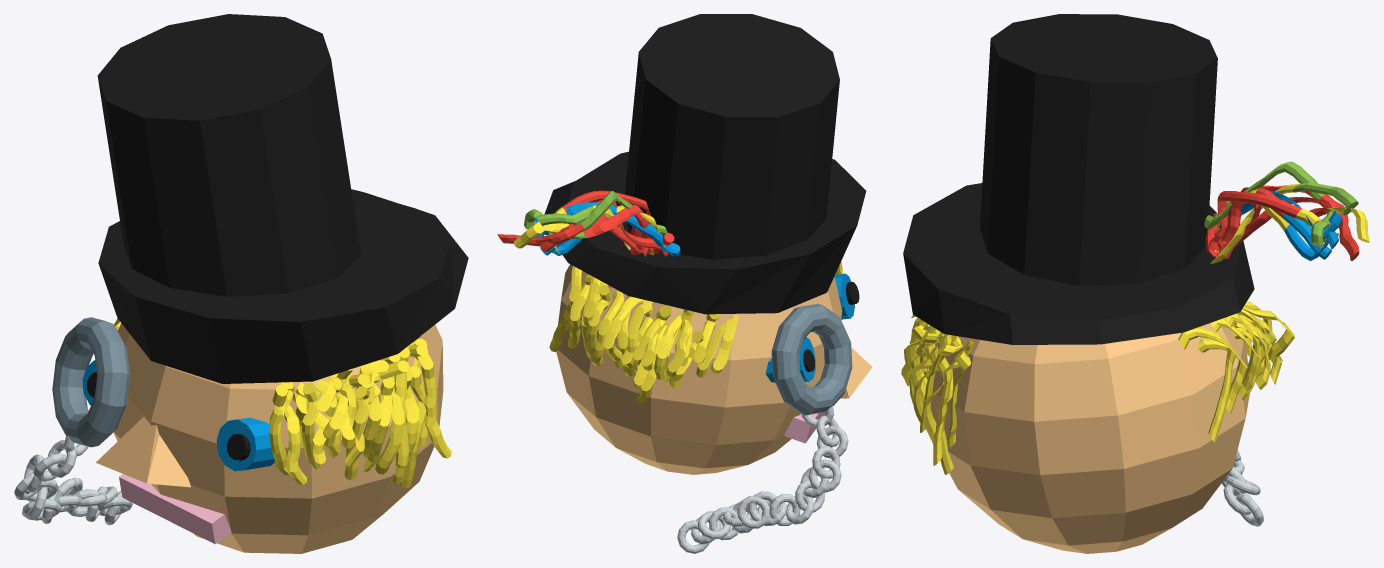
3 renders of one model, left to right at view 1: azimuth 30°, elevation 25°; view 2: azimuth 150°, elevation 25°; view 3: azimuth 270°, elevation 25°, orthographic. The views are drawn at different scales.
Parts seen in each view (by area): view 1: mesh_1056671256, mesh_1759973680, mesh_1674295897, mesh_729470194, group_1195844278, mesh_1835662427, mesh_1868574435, group_8469853, group_1767632515, group_857570327, group_1903960856, group_277436138 (+12 smaller); view 2: mesh_1056671256, mesh_1674295897, mesh_1759973680, mesh_729470194, group_2122223368, group_1233060333, group_471048283, group_564838867, group_438956359, group_1938881065, group_416849654, group_398654833 (+24 smaller); view 3: mesh_1056671256, mesh_1674295897, mesh_1759973680, group_2122223368, group_416849654, group_438956359, group_1503189227, group_945846356, group_1307326478, group_423673865, group_8469853, group_1497440107 (+6 smaller).
Boxes of the visible parts, x1,y1,x2,y2 form: mesh_1056671256: (97,14,361,296); mesh_1759973680: (98,189,468,383); mesh_1674295897: (113,323,443,553); mesh_729470194: (52,317,129,447); group_1195844278: (96,417,190,487); mesh_1835662427: (119,474,231,544); mesh_1868574435: (216,417,274,471); group_8469853: (410,335,451,458); group_1767632515: (272,384,307,484); group_857570327: (363,377,394,471); group_1903960856: (375,393,404,474); group_277436138: (400,365,426,488); mesh_1056671256: (625,14,839,259); mesh_1674295897: (556,264,842,474); mesh_1759973680: (544,151,866,314); mesh_729470194: (771,303,852,415); group_2122223368: (497,190,667,246); group_1233060333: (524,205,653,253); group_471048283: (535,202,680,256); group_564838867: (603,296,652,367); group_438956359: (549,266,581,351); group_1938881065: (590,291,623,366); group_416849654: (548,190,651,256); group_398654833: (662,309,695,381); mesh_1056671256: (980,14,1217,285); mesh_1674295897: (929,323,1249,553); mesh_1759973680: (903,183,1254,344); group_2122223368: (1204,161,1359,260); group_416849654: (1217,191,1338,248); group_438956359: (1178,327,1235,442); group_1503189227: (1210,182,1358,264); group_945846356: (1221,201,1369,242); group_1307326478: (1216,189,1338,260); group_423673865: (1205,197,1351,258); group_8469853: (933,340,973,465); group_1497440107: (1207,188,1331,259).
Size of the model in its own units: 32.99 by 43.56 by 36.78.
